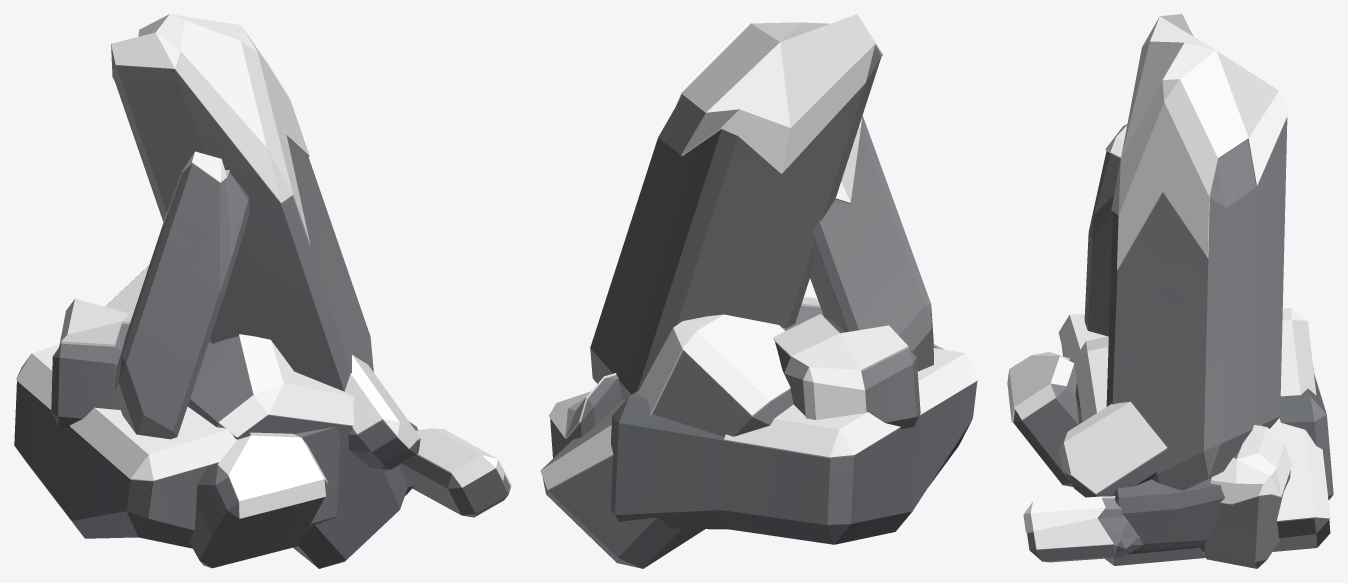
The model's file is rock_large.glb.
3 renders of one model, left to right at view 1: azimuth 30°, elevation 25°; view 2: azimuth 150°, elevation 25°; view 3: azimuth 270°, elevation 25°, orthographic. The views are drawn at different scales.
Visible parts, largest first — view 1: Stones_Monolith_Variant_5; view 2: Stones_Monolith_Variant_5; view 3: Stones_Monolith_Variant_5.
Boxes of the visible parts, box(x1,y1,x2,y2) form: Stones_Monolith_Variant_5: box(14, 14, 511, 568); Stones_Monolith_Variant_5: box(540, 14, 978, 568); Stones_Monolith_Variant_5: box(1007, 14, 1333, 568).
Bounding box in the file's own units: 1.88 × 2.69 × 1.65.
Materials: 1 (1 with a texture image).
